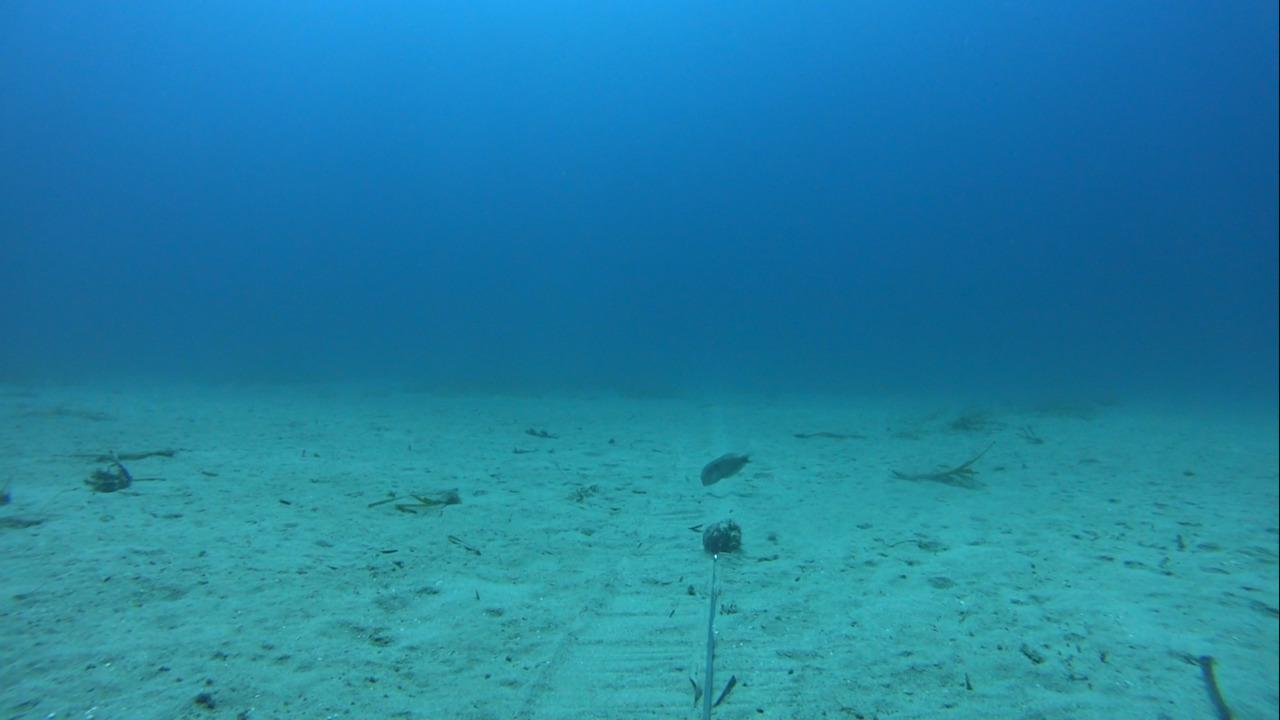raor: (698, 445, 754, 486)
